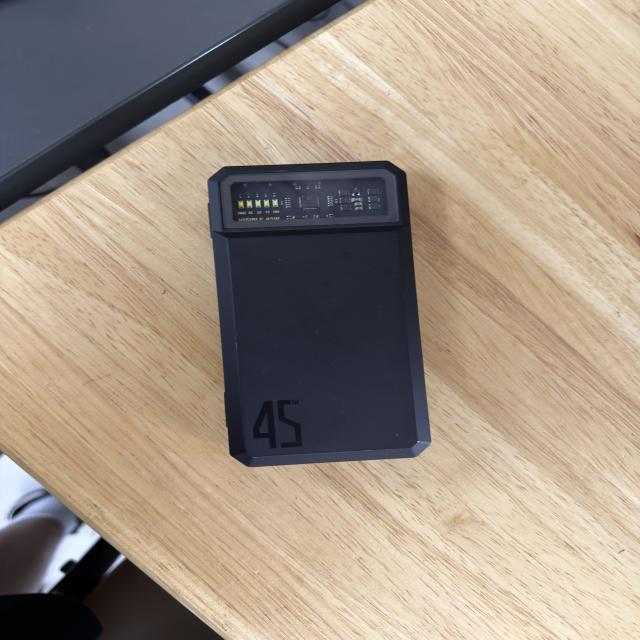power bank: (205, 158, 439, 467)
